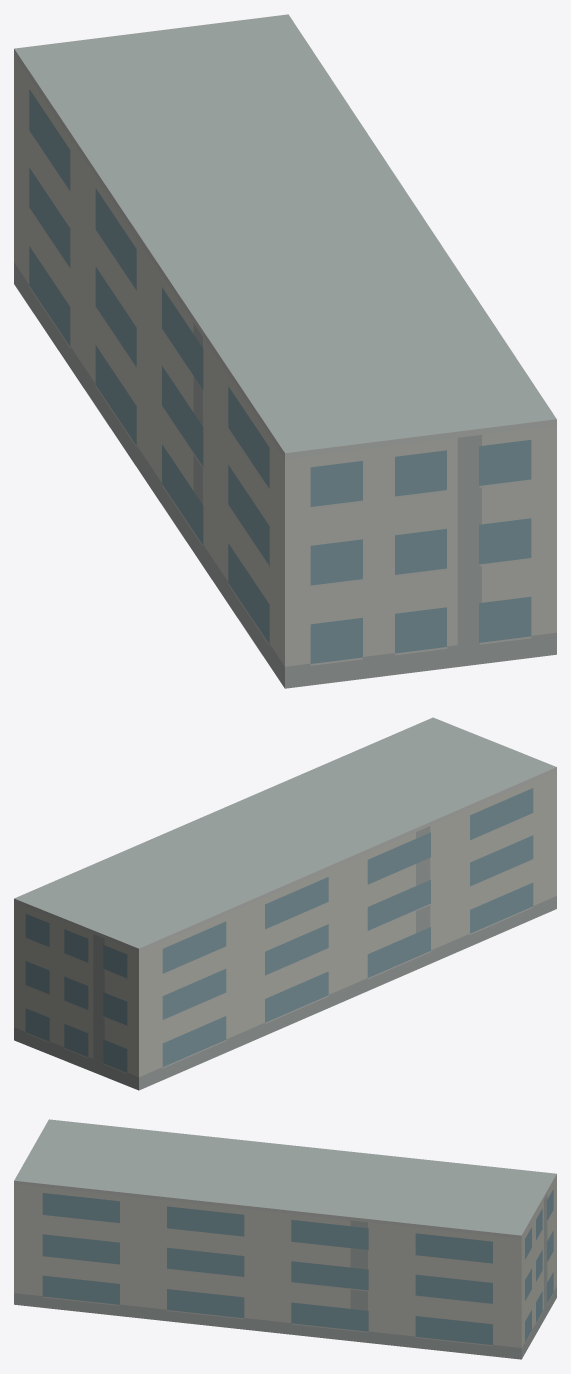
File: survey-upis-32585825.glb
3 renders of one model, top to bottom at view 1: azimuth 30°, elevation 25°; view 2: azimuth 150°, elevation 25°; view 3: azimuth 270°, elevation 25°, orthographic. The views are drawn at different scales.
Visible parts, largest first — view 1: survey-upis-32585825.tmp; view 2: survey-upis-32585825.tmp; view 3: survey-upis-32585825.tmp.
Boxes of the visible parts, x1,y1,x2,y2 form: survey-upis-32585825.tmp: (14, 14, 556, 688); survey-upis-32585825.tmp: (14, 717, 556, 1090); survey-upis-32585825.tmp: (14, 1119, 556, 1359).
Size of the model in its own units: 18.41 by 9.15 by 36.32.
